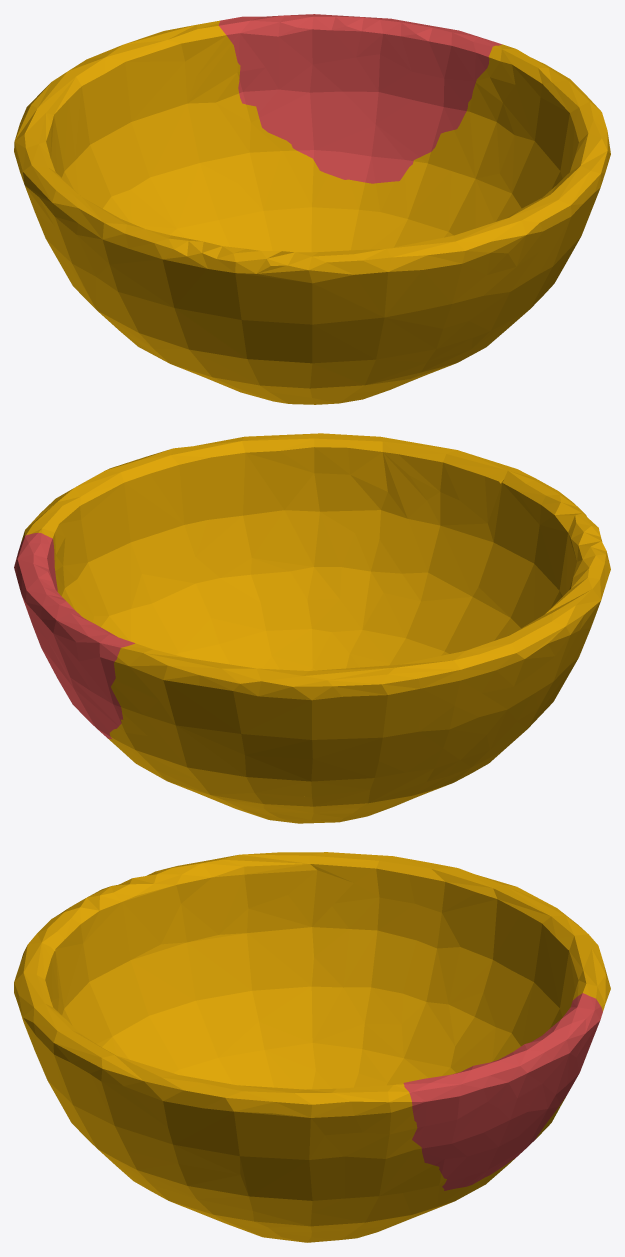
Rendered from fractured_37_2pcs.glb.
3 renders of one model, top to bottom at view 1: azimuth 30°, elevation 25°; view 2: azimuth 150°, elevation 25°; view 3: azimuth 270°, elevation 25°, orthographic.
Parts seen in each view (by area): view 1: piece_0.obj, piece_1.obj; view 2: piece_0.obj, piece_1.obj; view 3: piece_0.obj, piece_1.obj.
Boxes of the visible parts, x1,y1,x2,y2 form: piece_0.obj: (14, 20, 610, 404); piece_1.obj: (218, 14, 501, 183); piece_0.obj: (21, 433, 610, 823); piece_1.obj: (14, 532, 134, 739); piece_0.obj: (14, 852, 610, 1242); piece_1.obj: (403, 993, 602, 1190).
Bounding box in the file's own units: 0.9984 × 0.4281 × 1.
